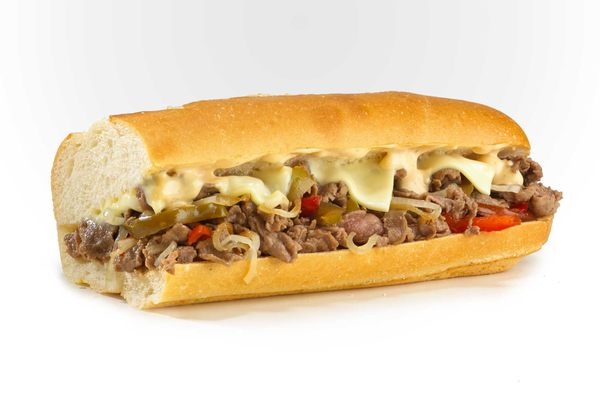burger: (52, 92, 553, 308)
